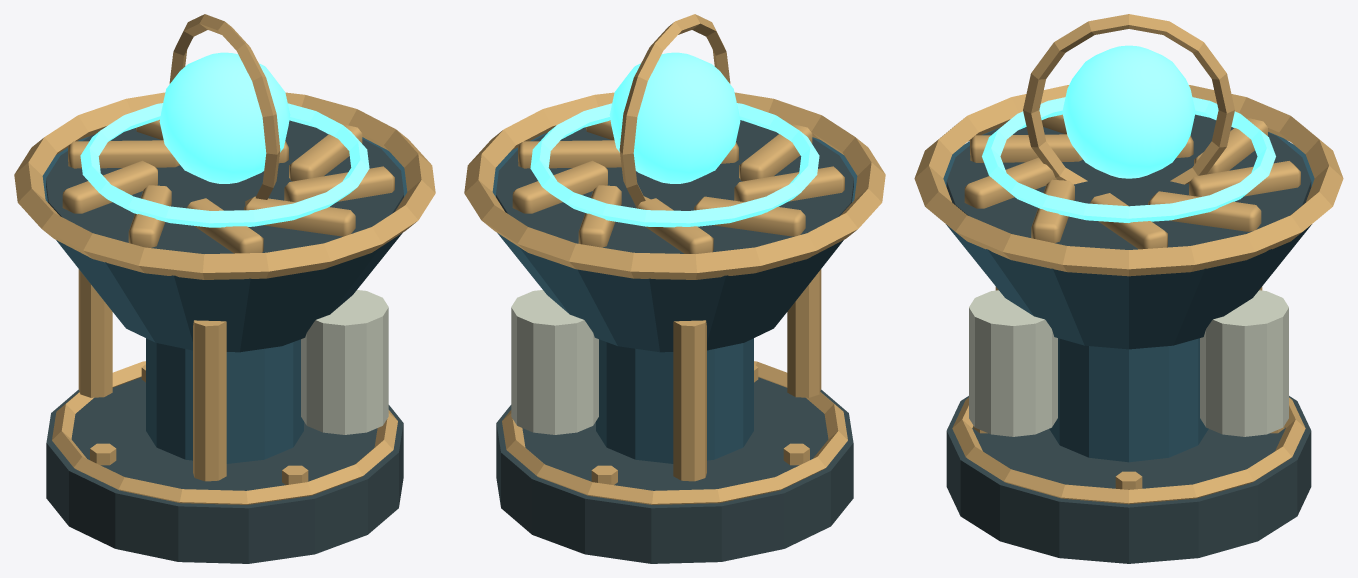
The model's file is module-vortex.glb.
3 views of the same model, side by side, from view 1: azimuth 30°, elevation 25°; view 2: azimuth 150°, elevation 25°; view 3: azimuth 270°, elevation 25° (orthographic).
Parts seen in each view (by area): view 1: module-vortex / Fittings | worn maritime brass, module-vortex / Hull | charcoal iron, module-vortex / Hull | Prussian enamel, module-vortex / Lamp | turbine mint, module-vortex / Insulator | warm porcelain; view 2: module-vortex / Fittings | worn maritime brass, module-vortex / Hull | charcoal iron, module-vortex / Hull | Prussian enamel, module-vortex / Lamp | turbine mint, module-vortex / Insulator | warm porcelain; view 3: module-vortex / Hull | charcoal iron, module-vortex / Fittings | worn maritime brass, module-vortex / Hull | Prussian enamel, module-vortex / Insulator | warm porcelain, module-vortex / Lamp | turbine mint.
Part boxes in pixels (x1,y1,x2,y2): module-vortex / Fittings | worn maritime brass: (14,14,435,504); module-vortex / Hull | charcoal iron: (46,120,403,563); module-vortex / Hull | Prussian enamel: (42,136,407,463); module-vortex / Lamp | turbine mint: (80,52,369,227); module-vortex / Insulator | warm porcelain: (301,290,388,434); module-vortex / Fittings | worn maritime brass: (464,14,885,504); module-vortex / Hull | charcoal iron: (496,120,853,563); module-vortex / Hull | Prussian enamel: (492,132,857,463); module-vortex / Lamp | turbine mint: (530,52,819,227); module-vortex / Insulator | warm porcelain: (511,290,598,434); module-vortex / Hull | charcoal iron: (946,114,1311,563); module-vortex / Fittings | worn maritime brass: (914,14,1343,504); module-vortex / Hull | Prussian enamel: (943,127,1314,462); module-vortex / Insulator | warm porcelain: (969,290,1288,436); module-vortex / Lamp | turbine mint: (982,45,1275,222).
Bounding box in the file's own units: 1.93 × 2.35 × 1.93.
